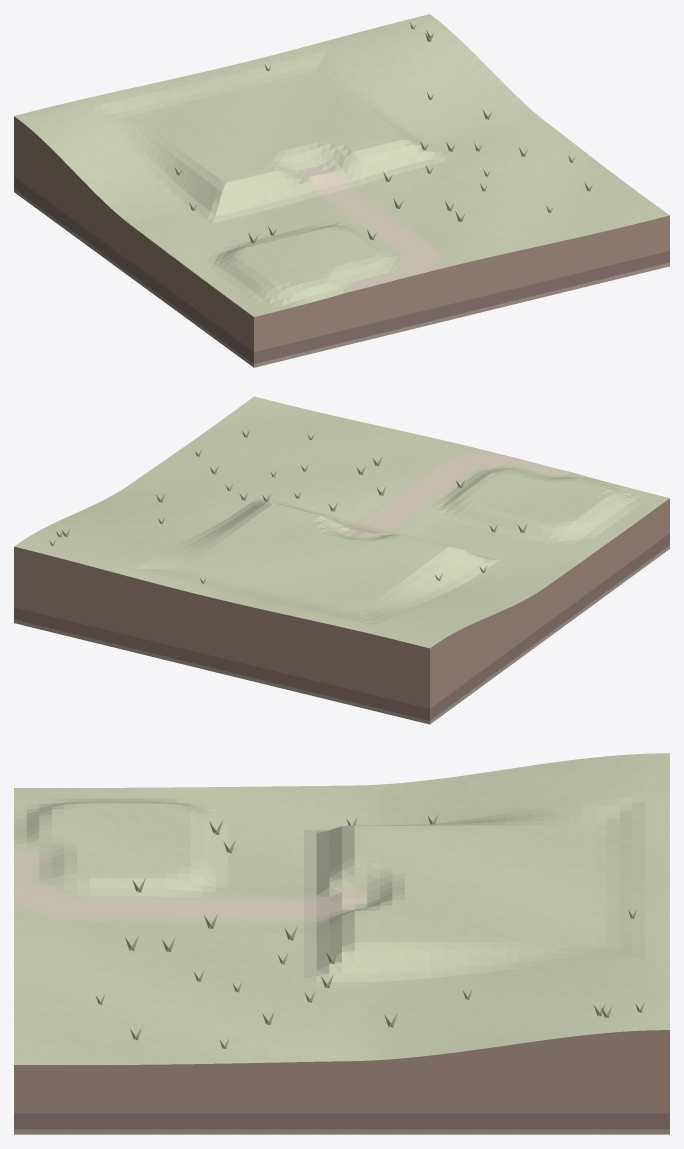
3 renders of one model, top to bottom at view 1: azimuth 30°, elevation 25°; view 2: azimuth 150°, elevation 25°; view 3: azimuth 270°, elevation 25°, orthographic. The views are drawn at different scales.
Visible parts, largest first — view 1: proc_ground, proc_skirt, proc_grass; view 2: proc_ground, proc_skirt, proc_grass; view 3: proc_ground, proc_skirt, proc_grass.
Part boxes in pixels (<box>): proc_ground: <box>14,14,669,316</box>; proc_skirt: <box>14,116,669,367</box>; proc_grass: <box>175,22,592,243</box>; proc_ground: <box>14,396,669,648</box>; proc_skirt: <box>14,498,669,724</box>; proc_grass: <box>49,430,527,583</box>; proc_ground: <box>14,753,669,1064</box>; proc_skirt: <box>14,1030,669,1134</box>; proc_grass: <box>95,814,644,1048</box>.
Size of the model in its own units: 8 by 1.52 by 8.
